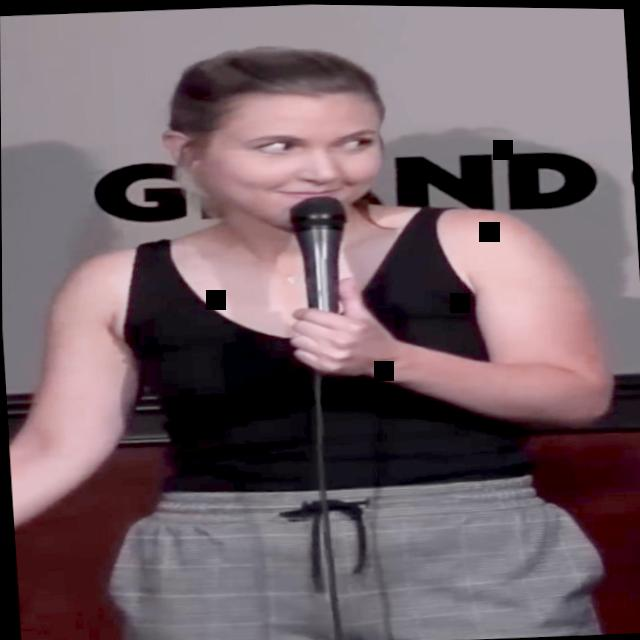NO-Mask: (166, 85, 400, 238)
